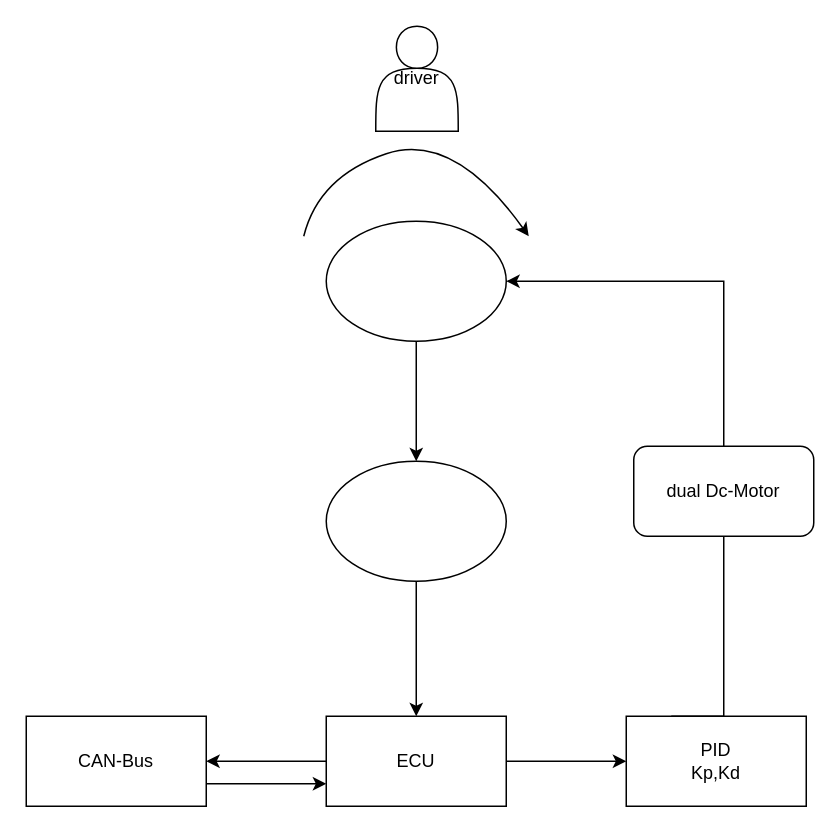
The diagram is 840 pixels wide and 833 high, and some of its shapes have lost their labels. The shapes that lost their labels are listed below. From the top down, each one's box as (x1, y1, x2, y2) in pixels, then its label:
(325, 220, 506, 341): Steering Wheel
(325, 460, 506, 581): Encoder
